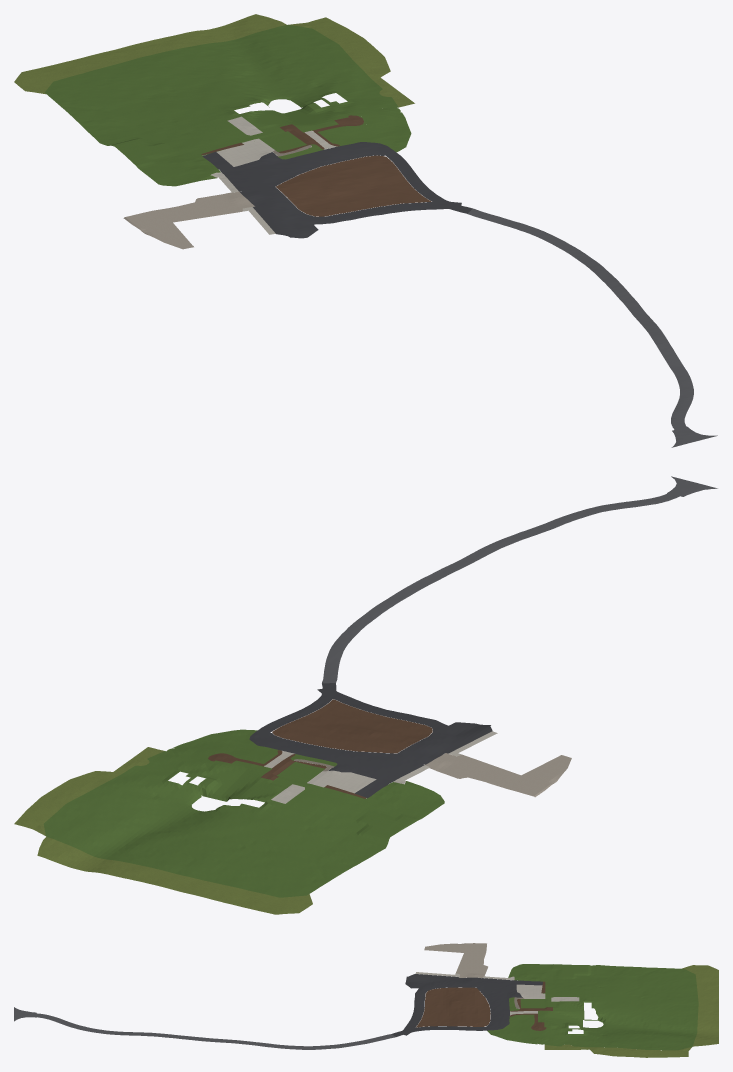
Rendered from surfaces_2025.glb.
The picture shows the model from 3 angles, top to bottom: view 1: azimuth 30°, elevation 25°; view 2: azimuth 150°, elevation 25°; view 3: azimuth 270°, elevation 25°; orthographic projection. The views are drawn at different scales.
Parts seen in each view (by area): view 1: site_lawn_1, site_island, site_lawn_2, rear_meadow_strip, site_drive, site_lawn_3, site_court, site_drive_barn, outb_gravel_yard, sides_east_meadow_edge, site_lawn_4, site_lawn_5 (+2 smaller); view 2: site_lawn_1, site_lawn_2, site_island, rear_meadow_strip, site_lawn_3, site_drive, site_court, outb_gravel_yard, site_drive_barn, sides_east_meadow_edge, site_lawn_5, site_lawn_4 (+2 smaller); view 3: site_lawn_1, site_island, site_lawn_2, rear_meadow_strip, site_drive, site_lawn_3, site_court, site_drive_barn, outb_gravel_yard, sides_east_meadow_edge, site_lawn_4, site_lawn_5 (+2 smaller).
Boxes of the visible parts, x1=… form: site_lawn_1: x1=45, y1=25, x2=366, y2=143; site_island: x1=276, y1=155, x2=431, y2=216; site_lawn_2: x1=124, y1=92, x2=398, y2=170; rear_meadow_strip: x1=14, y1=14, x2=286, y2=94; site_drive: x1=460, y1=208, x2=717, y2=447; site_lawn_3: x1=100, y1=74, x2=382, y2=154; site_court: x1=202, y1=142, x2=394, y2=191; site_drive_barn: x1=240, y1=187, x2=461, y2=238; outb_gravel_yard: x1=123, y1=191, x2=254, y2=249; sides_east_meadow_edge: x1=288, y1=17, x2=414, y2=107; site_lawn_4: x1=314, y1=111, x2=411, y2=152; site_lawn_5: x1=142, y1=132, x2=306, y2=186; site_lawn_1: x1=43, y1=778, x2=385, y2=897; site_lawn_2: x1=142, y1=751, x2=425, y2=829; site_island: x1=272, y1=699, x2=432, y2=753; rear_meadow_strip: x1=37, y1=836, x2=312, y2=914; site_lawn_3: x1=114, y1=765, x2=401, y2=848; site_drive: x1=322, y1=476, x2=717, y2=686; site_court: x1=249, y1=730, x2=424, y2=798; outb_gravel_yard: x1=424, y1=753, x2=571, y2=797; site_drive_barn: x1=317, y1=687, x2=490, y2=764; sides_east_meadow_edge: x1=14, y1=747, x2=164, y2=835; site_lawn_5: x1=277, y1=762, x2=444, y2=815; site_lawn_4: x1=173, y1=729, x2=280, y2=763; site_lawn_1: x1=598, y1=965, x2=698, y2=1050; site_island: x1=416, y1=987, x2=490, y2=1027; site_lawn_2: x1=544, y1=964, x2=571, y2=1046; rear_meadow_strip: x1=682, y1=965, x2=718, y2=1046; site_drive: x1=14, y1=1007, x2=395, y2=1049; site_lawn_3: x1=571, y1=965, x2=597, y2=1047; site_court: x1=475, y1=978, x2=542, y2=1030; site_drive_barn: x1=398, y1=975, x2=481, y2=1035; outb_gravel_yard: x1=424, y1=943, x2=487, y2=977; sides_east_meadow_edge: x1=544, y1=1044, x2=691, y2=1057; site_lawn_4: x1=487, y1=1014, x2=544, y2=1044; site_lawn_5: x1=508, y1=964, x2=544, y2=1008.
Bounding box in the file's own units: 94 × 3.1 × 243.
8 materials, 8 textured.
